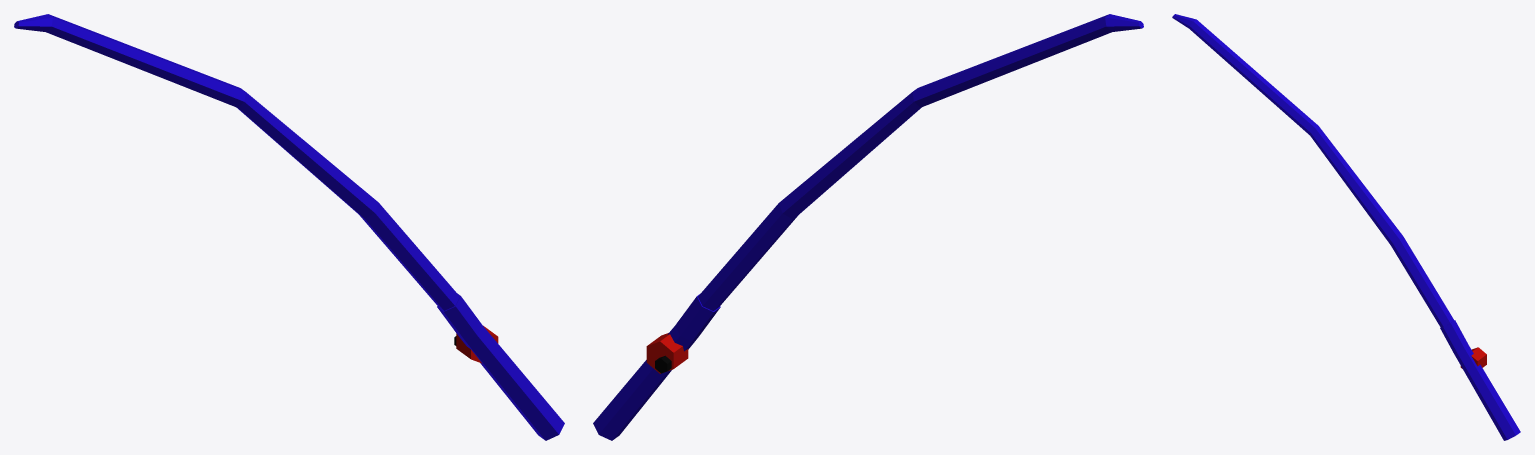
The model's file is FishingRodBlue.fbx.
The picture shows the model from 3 angles, left to right: view 1: azimuth 30°, elevation 25°; view 2: azimuth 150°, elevation 25°; view 3: azimuth 330°, elevation 25°; orthographic projection. The views are drawn at different scales.
Parts seen in each view (by area): view 1: Cylinder; view 2: Cylinder, Cylinder.001; view 3: Cylinder.
Boxes of the visible parts, left/top/right/bottom form: Cylinder: left=14, top=14, right=564, bottom=440; Cylinder: left=593, top=14, right=1143, bottom=440; Cylinder.001: left=646, top=333, right=688, bottom=373; Cylinder: left=1172, top=14, right=1520, bottom=440.
Size of the model in its own units: 4157 by 3958 by 337.
